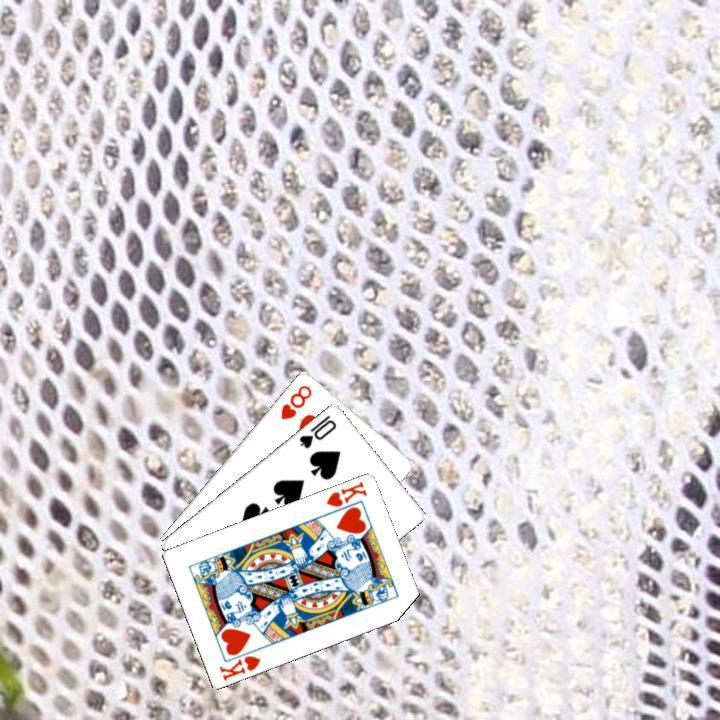10: (295, 410, 339, 450)
8: (276, 380, 314, 421)
K: (215, 650, 263, 682), (322, 477, 369, 509)
